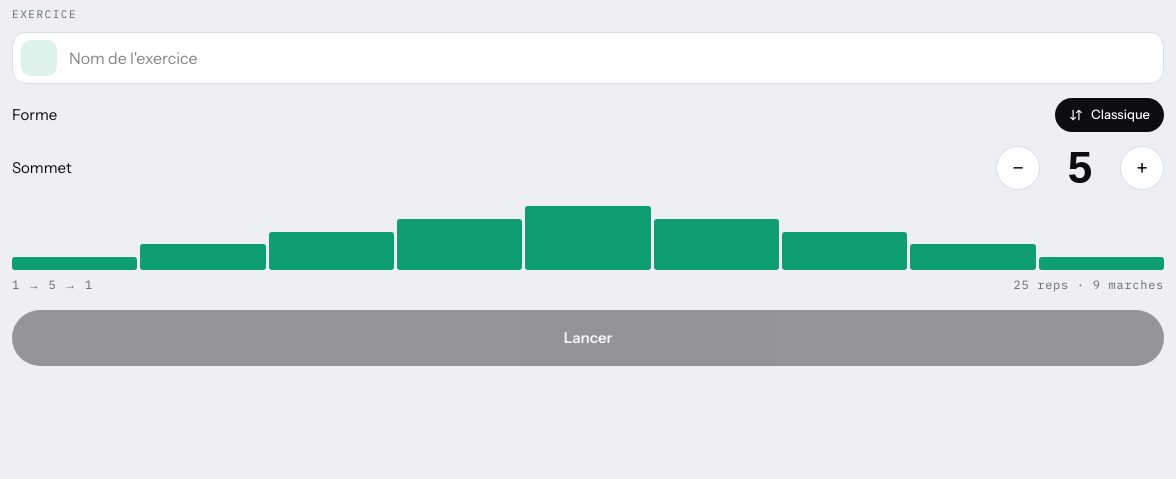
Test: PyramidLauncher › prefills the last peak used for the exercise
Type "Pull ups" into the dropdown with placeholder "Nom de l'exercice".
click(612, 58); type("Pull ups")  # box [69, 33, 1155, 83]
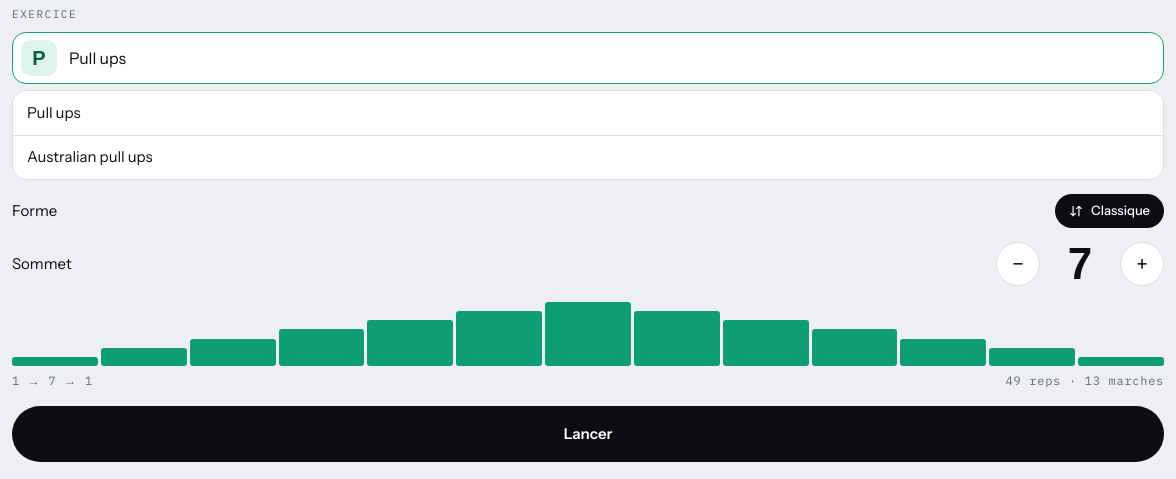
Check: the text "49 reps · 13 marches" is shown, box [1006, 372, 1164, 390]
